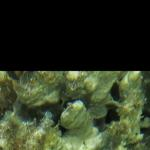dead: (4, 72, 147, 146)
